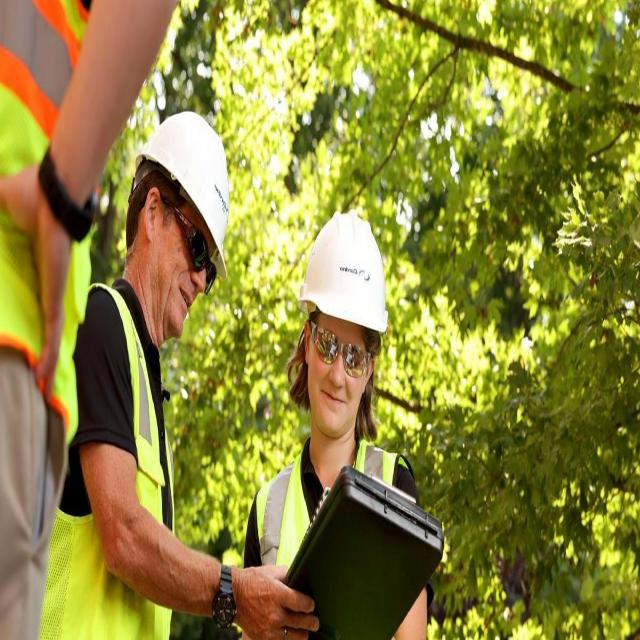Reflective-Jacket: (37, 281, 180, 640), (0, 13, 90, 377), (251, 439, 410, 640)
Safety-Helmet: (133, 104, 235, 282), (295, 206, 391, 336)
